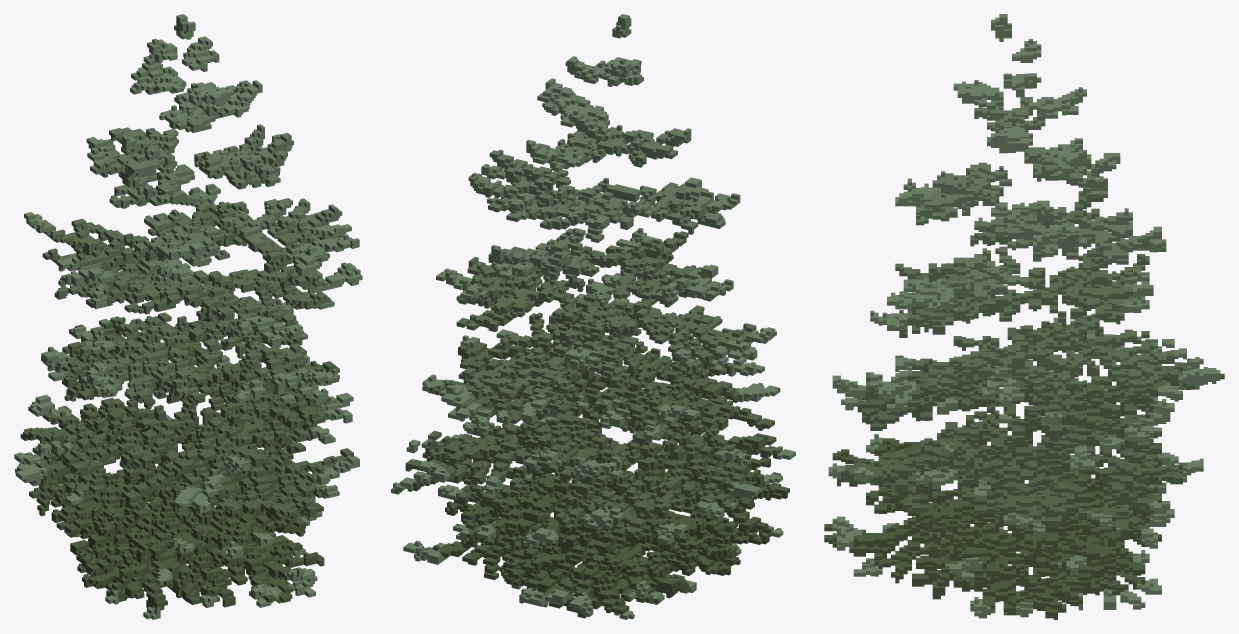
The model's file is 3_voxtree_leaves.obj.
3 views of the same model, side by side, from view 1: azimuth 30°, elevation 25°; view 2: azimuth 150°, elevation 25°; view 3: azimuth 270°, elevation 25° (orthographic).
Parts seen in each view (by area): view 1: blender_leaves; view 2: blender_leaves; view 3: blender_leaves.
Boxes of the visible parts, <box> form: blender_leaves: <box>14,14,362,619</box>; blender_leaves: <box>391,14,795,619</box>; blender_leaves: <box>824,14,1224,619</box>.
Bounding box in the file's own units: 9 × 14.8 × 9.6.
Materials: 1 (1 with a texture image).
